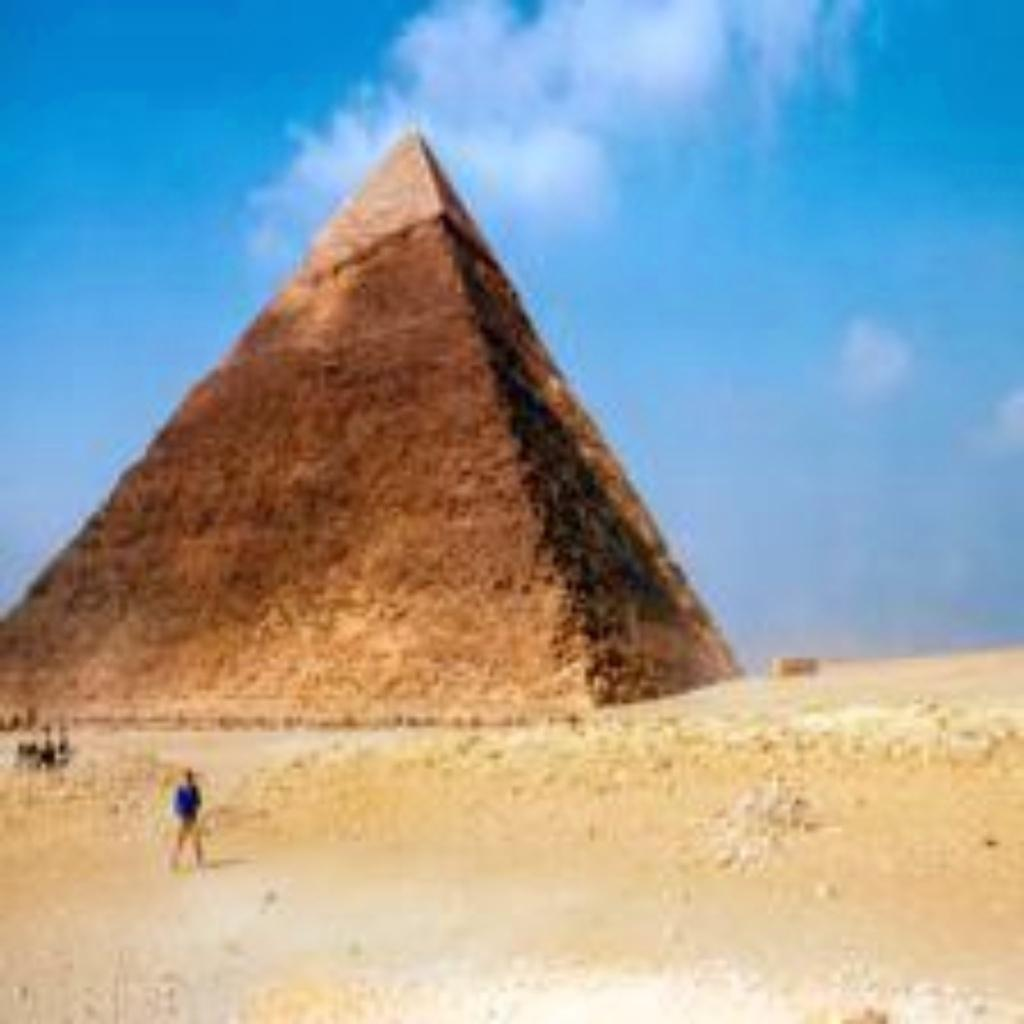Great Pyramids of Giza: (0, 118, 741, 732)
